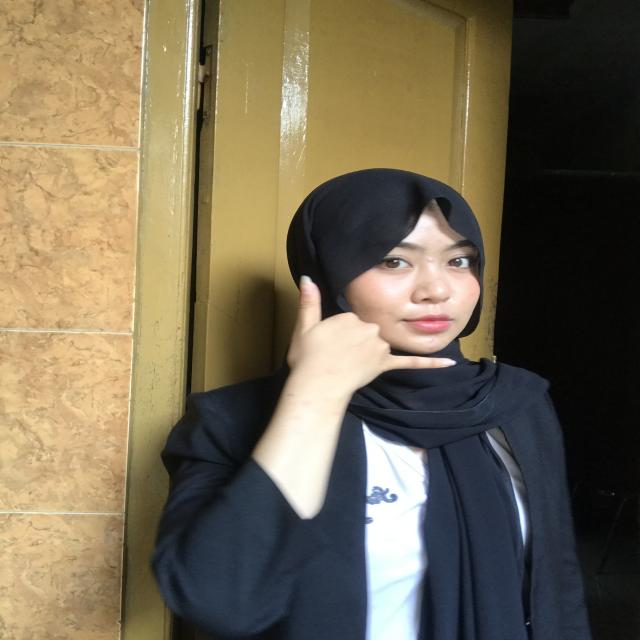telpon: (276, 269, 466, 394)
